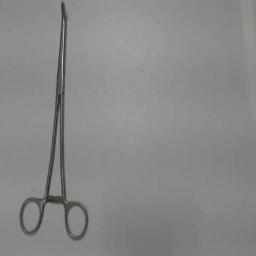Lahey Forceps: (16, 2, 92, 244)
